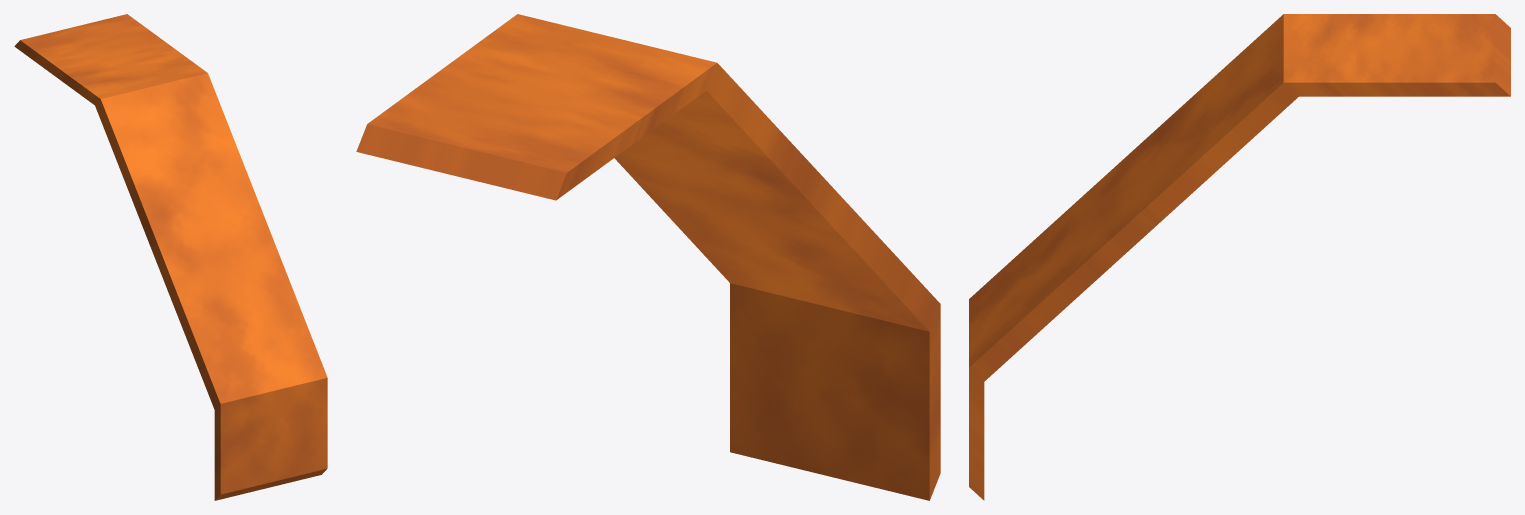
File: enemyPlank.obj
3 views of the same model, side by side, from view 1: azimuth 30°, elevation 25°; view 2: azimuth 150°, elevation 25°; view 3: azimuth 270°, elevation 25° (orthographic). The views are drawn at different scales.
Visible parts, largest first — view 1: 鋼板; view 2: 鋼板; view 3: 鋼板.
Part boxes in pixels (x1,y1,x2,y2): 鋼板: (14,14,327,500); 鋼板: (356,14,940,500); 鋼板: (969,14,1510,500).
Bounding box in the file's own units: 0.191 × 0.5424 × 0.6369.
1 material, 1 textured.
